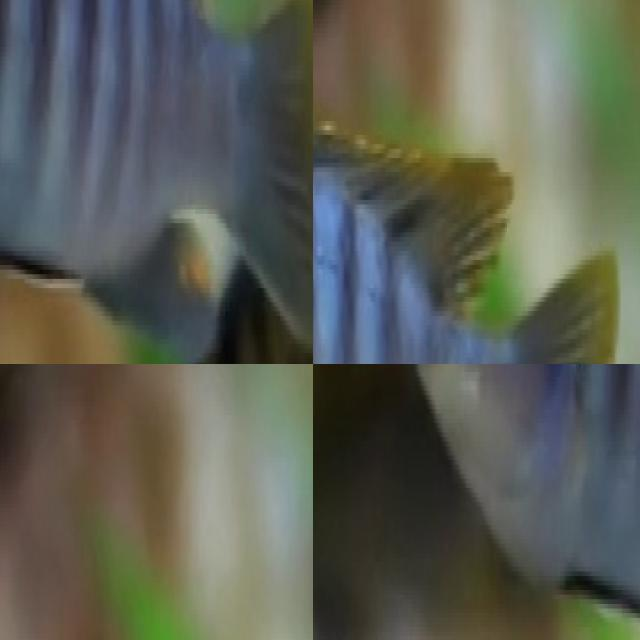fish: (0, 0, 313, 364), (313, 70, 594, 364), (384, 364, 640, 640)
